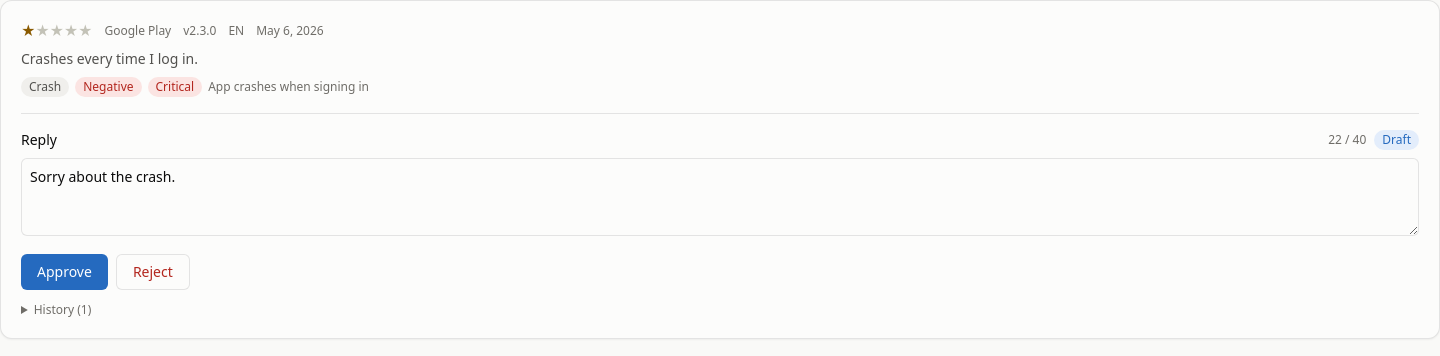
Test: ReplyCard › blocks text over the store limit
The image size is (1440, 356).
Type " and this makes it far too long" into the text box labelled "Reply" at coordinates (720, 197), box [21, 158, 1419, 236]
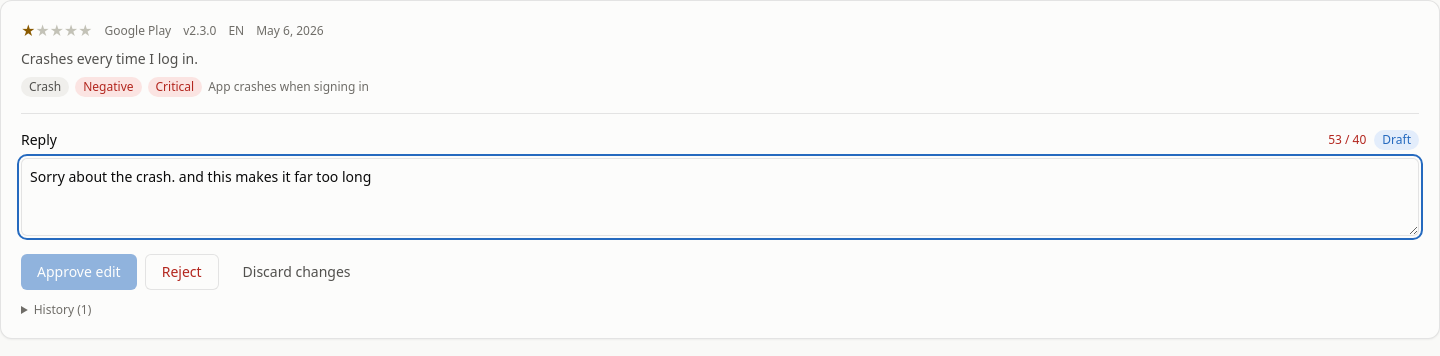
expect the button "Approve edit" is disabled: met, box [21, 254, 137, 290]
